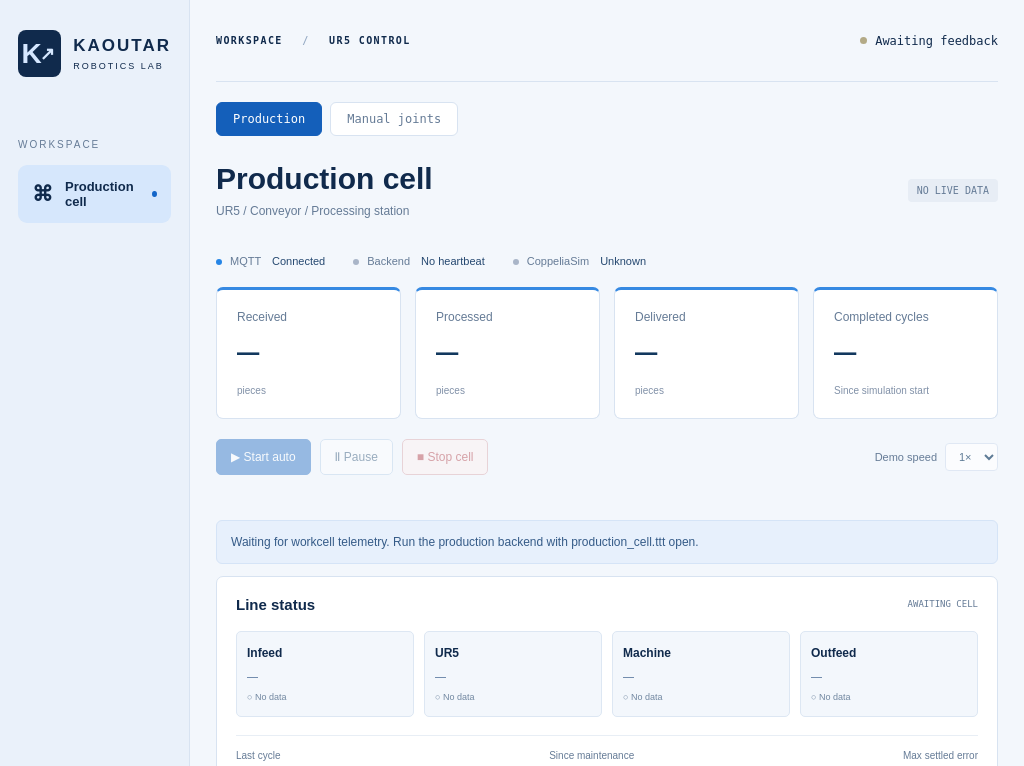
Scenario: feedback keeps the five most recent actual target changes and ignores repeated states
Click the button "Manual joints".
click(394, 119)  # box [330, 102, 458, 136]
(page scrolled)
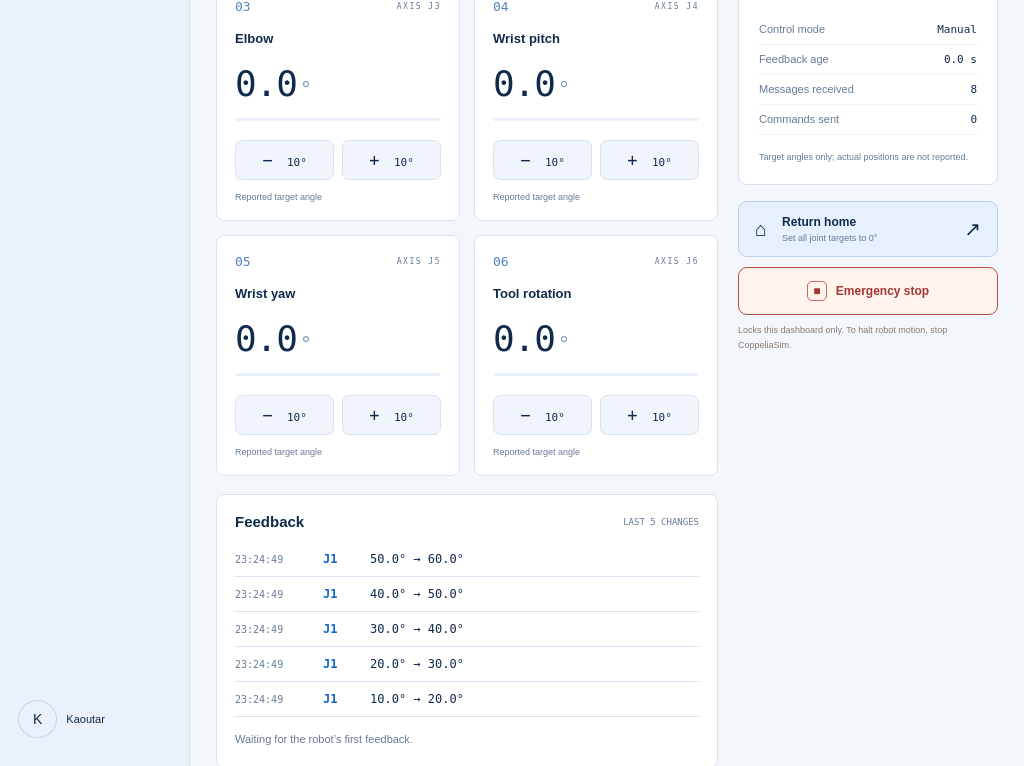
Check: the number of list items is 5, box [235, 542, 699, 577]; [235, 577, 699, 612]; [235, 612, 699, 647]; [235, 647, 699, 682]; [235, 682, 699, 717]
Check: the list item "23:24:49 J1 50.0° → 60.0°" is shown, box [235, 542, 699, 577]
